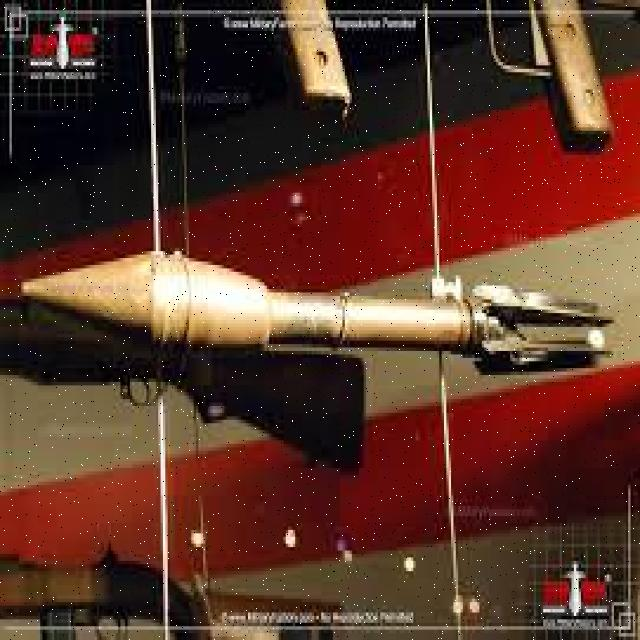bazooka: (19, 240, 618, 377)
